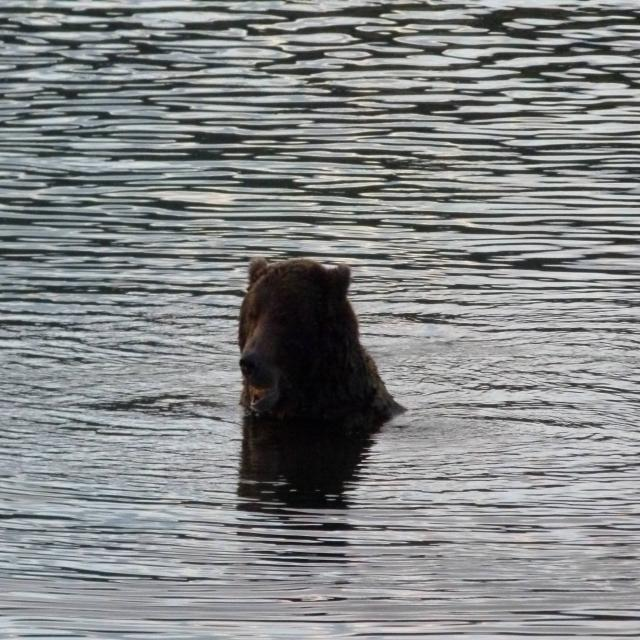bear face: (237, 256, 401, 421)
